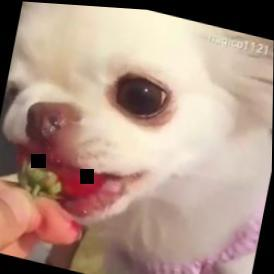nasal_discharge: (31, 94, 73, 142)
